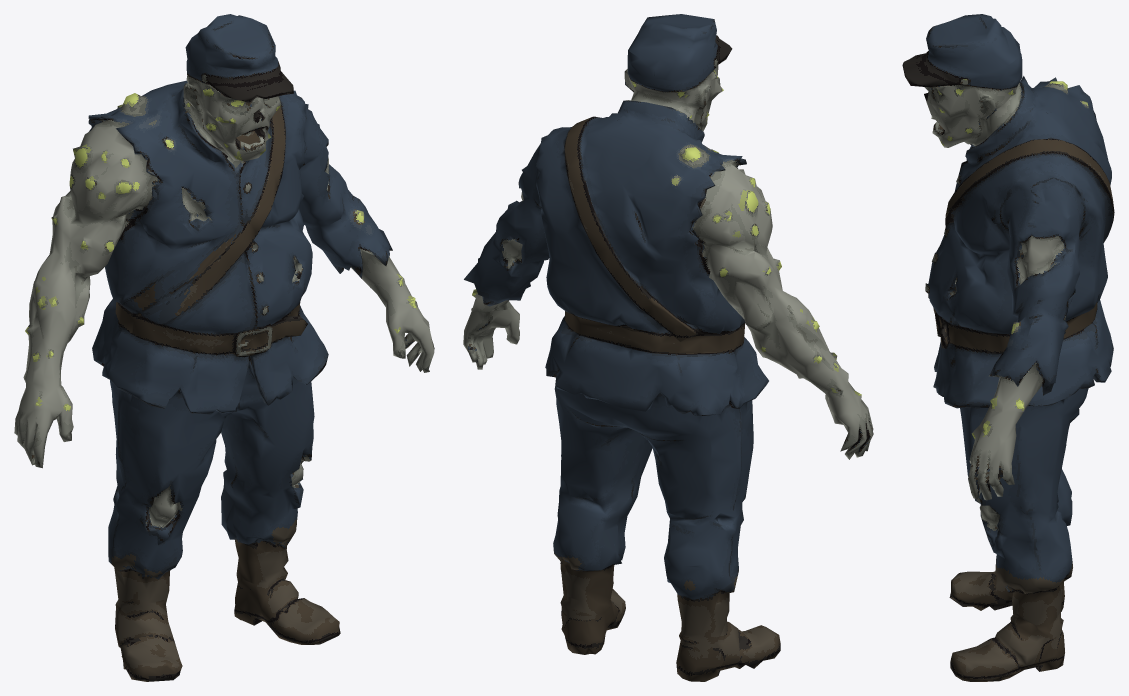
File: apestado.glb
The picture shows the model from 3 angles, left to right: view 1: azimuth 30°, elevation 25°; view 2: azimuth 150°, elevation 25°; view 3: azimuth 270°, elevation 25°; orthographic projection. The views are drawn at different scales.
Visible parts, largest first — view 1: tripo_node_fdfd39c9-9451-400e-94ef-e1c1d7fd747d; view 2: tripo_node_fdfd39c9-9451-400e-94ef-e1c1d7fd747d; view 3: tripo_node_fdfd39c9-9451-400e-94ef-e1c1d7fd747d.
Boxes of the visible parts, x1,y1,x2,y2 form: tripo_node_fdfd39c9-9451-400e-94ef-e1c1d7fd747d: [14, 14, 434, 681]; tripo_node_fdfd39c9-9451-400e-94ef-e1c1d7fd747d: [463, 14, 873, 681]; tripo_node_fdfd39c9-9451-400e-94ef-e1c1d7fd747d: [902, 14, 1114, 681].
Size of the model in its own units: 0.6751 by 1 by 0.3119.
Materials: 1 (1 with a texture image).
